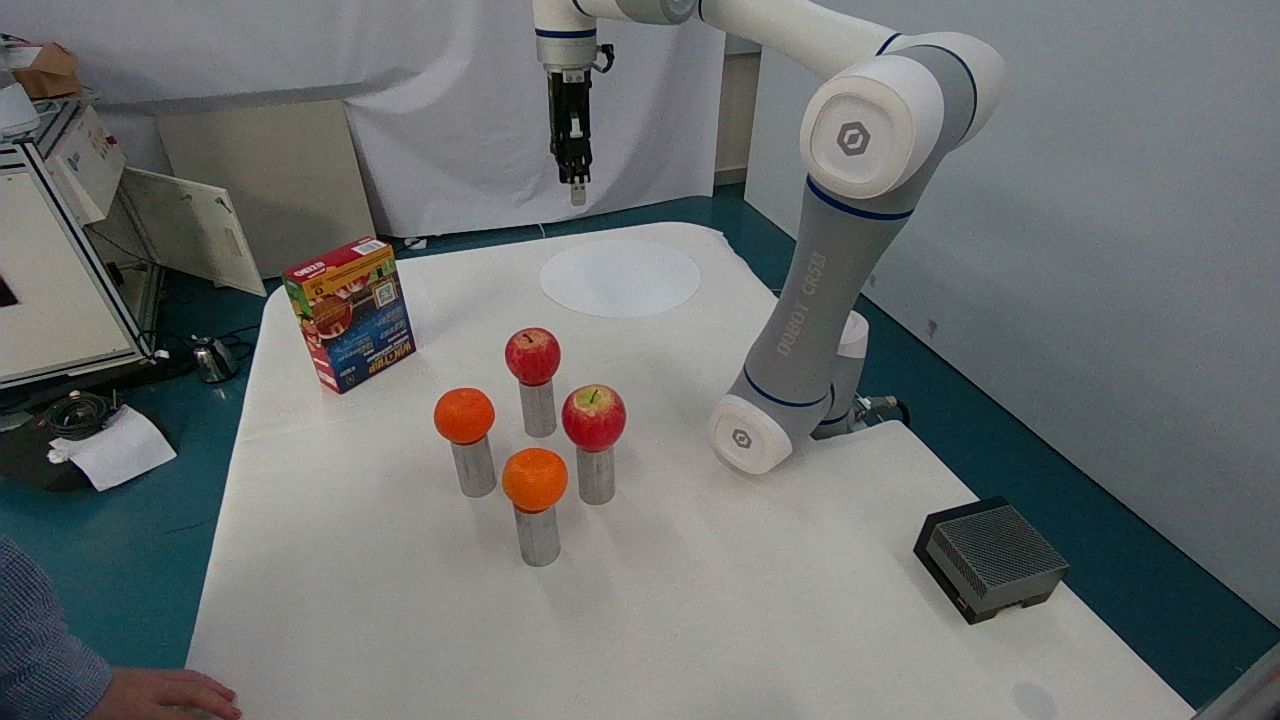apple: (556, 370, 637, 451), (503, 317, 573, 399)
metal rod: (493, 490, 577, 581), (501, 370, 576, 445), (565, 438, 632, 509)
orange: (415, 371, 502, 452), (491, 441, 576, 509)
